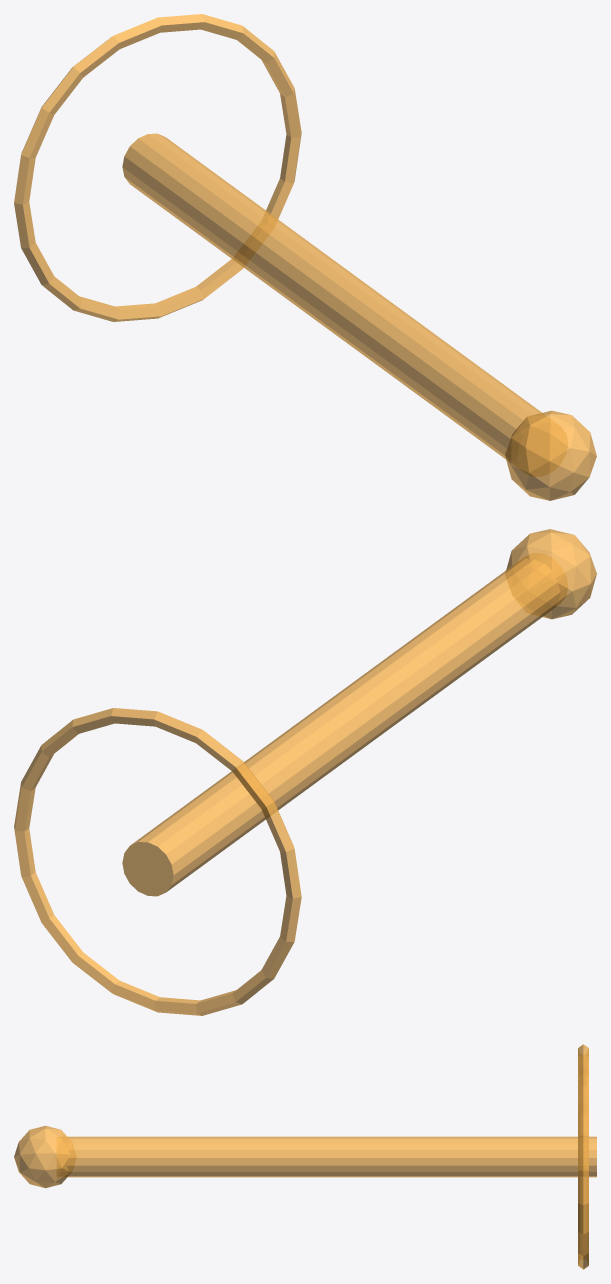
File: loot_beam_legendary.glb
The picture shows the model from 3 angles, top to bottom: view 1: azimuth 30°, elevation 25°; view 2: azimuth 150°, elevation 25°; view 3: azimuth 270°, elevation 25°; orthographic projection. The views are drawn at different scales.
Parts seen in each view (by area): view 1: beam, ground_ring, top_spark; view 2: beam, ground_ring, top_spark; view 3: beam, top_spark, ground_ring.
Part boxes in pixels (x1=…): beam: x1=122, y1=133, x2=541, y2=459; ground_ring: x1=14, y1=14, x2=301, y2=321; top_spark: x1=505, y1=410, x2=596, y2=500; beam: x1=122, y1=558, x2=560, y2=896; ground_ring: x1=14, y1=708, x2=301, y2=1015; top_spark: x1=506, y1=529, x2=596, y2=619; beam: x1=67, y1=1136, x2=596, y2=1177; top_spark: x1=14, y1=1125, x2=68, y2=1188; ground_ring: x1=578, y1=1044, x2=588, y2=1269.
Size of the model in its own units: 1.01 by 1.01 by 2.59.
